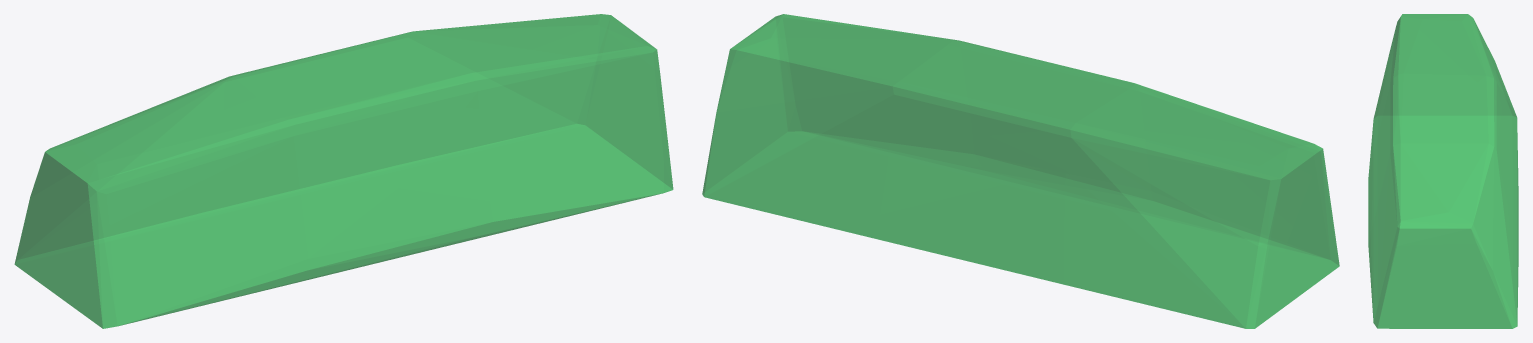
3 renders of one model, left to right at view 1: azimuth 30°, elevation 25°; view 2: azimuth 150°, elevation 25°; view 3: azimuth 270°, elevation 25°, orthographic. The views are drawn at different scales.
Visible parts, largest first — view 1: Shape_IndexedFaceSet.001_Shape_IndexedFaceSet.8358; view 2: Shape_IndexedFaceSet.001_Shape_IndexedFaceSet.8358; view 3: Shape_IndexedFaceSet.001_Shape_IndexedFaceSet.8358.
Part boxes in pixels (x1,y1,x2,y2): Shape_IndexedFaceSet.001_Shape_IndexedFaceSet.8358: (14, 14, 673, 328); Shape_IndexedFaceSet.001_Shape_IndexedFaceSet.8358: (702, 14, 1339, 328); Shape_IndexedFaceSet.001_Shape_IndexedFaceSet.8358: (1368, 14, 1518, 328).
Size of the model in its own units: 1.23 by 0.3112 by 0.3659.
